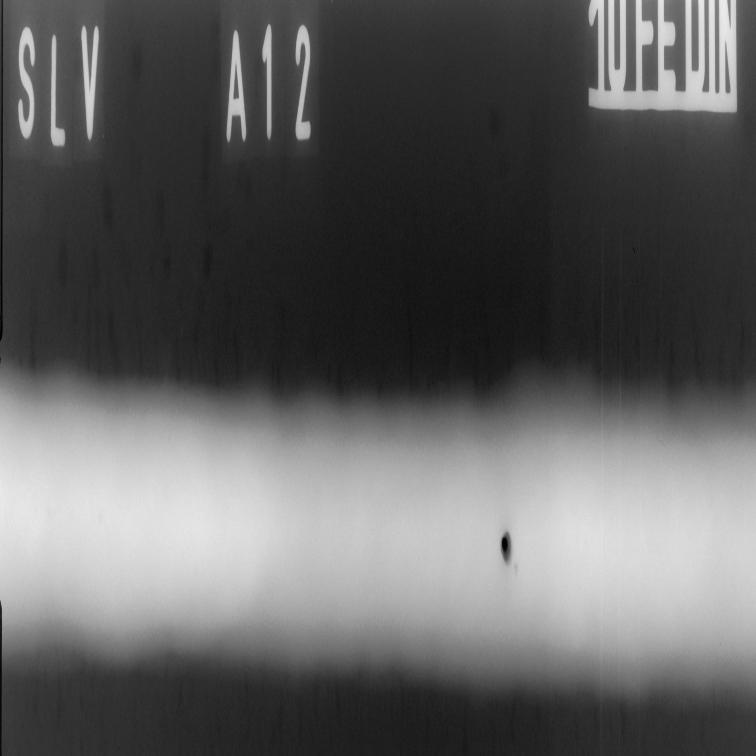PO: (499, 517, 513, 570)
